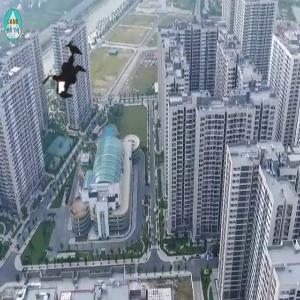drone: (20, 26, 109, 115)
